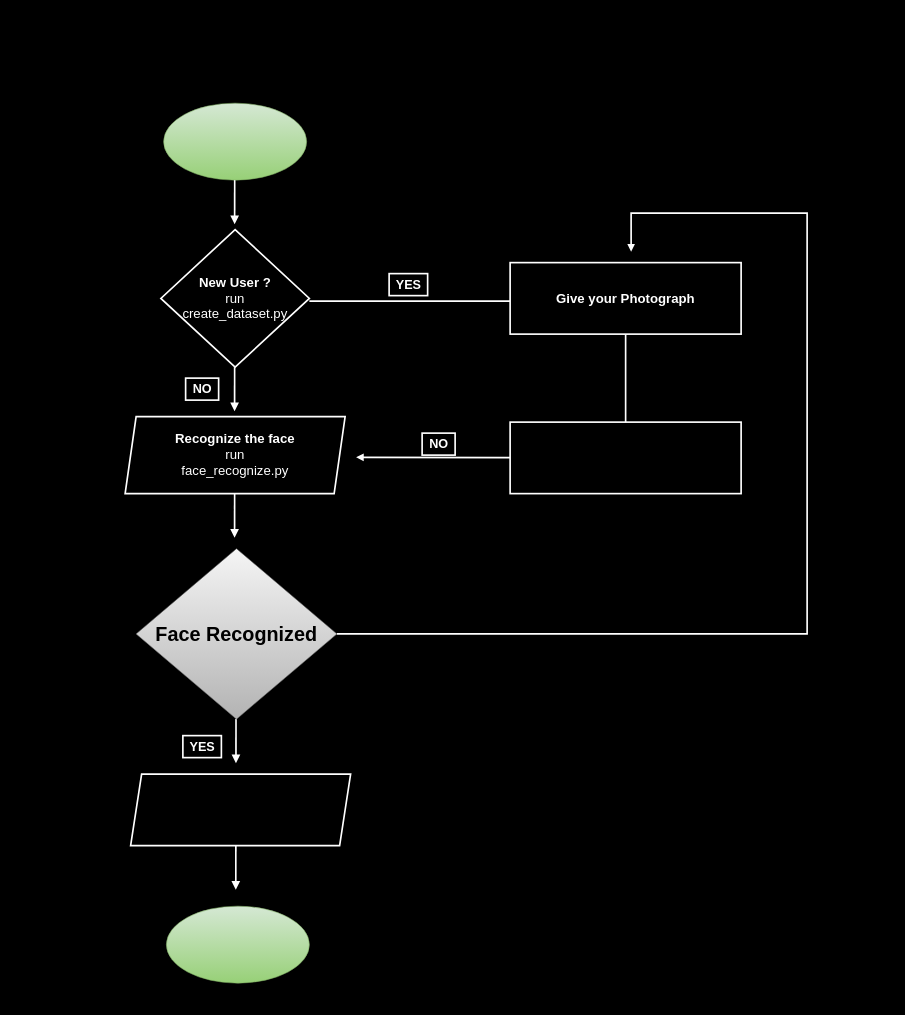
Image size: 905x1015. Some labels were removed from this diagram. Each missing label, with the box of its shape:
END: (166, 906, 309, 983)
START: (163, 103, 307, 180)
Store the face data in folder on your name: (509, 421, 742, 494)
Stored in csv file with Registration number &Data time of Entry: (130, 773, 351, 846)
